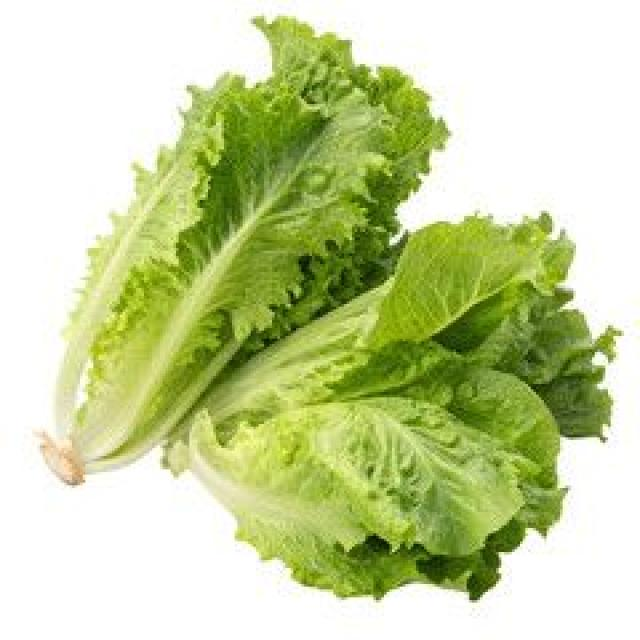lettuce: (43, 19, 615, 597), (56, 19, 447, 471), (168, 216, 607, 597)
